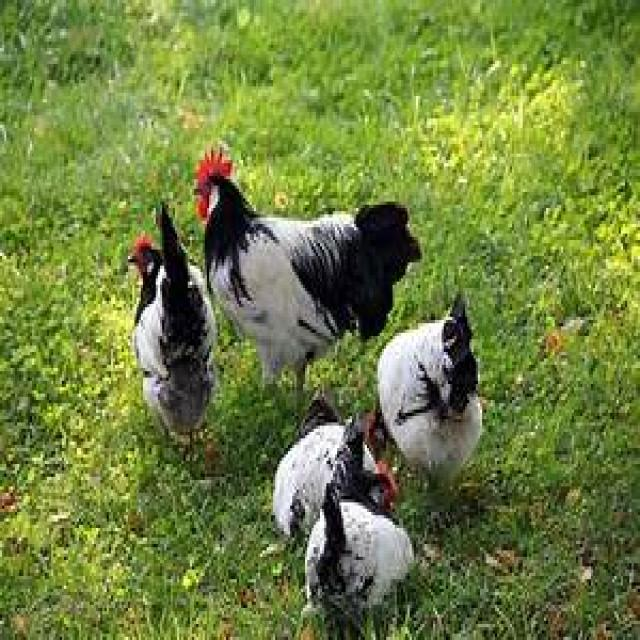chicken: (196, 149, 420, 417), (125, 200, 216, 457), (372, 302, 488, 493), (271, 420, 397, 542), (303, 498, 415, 628)
